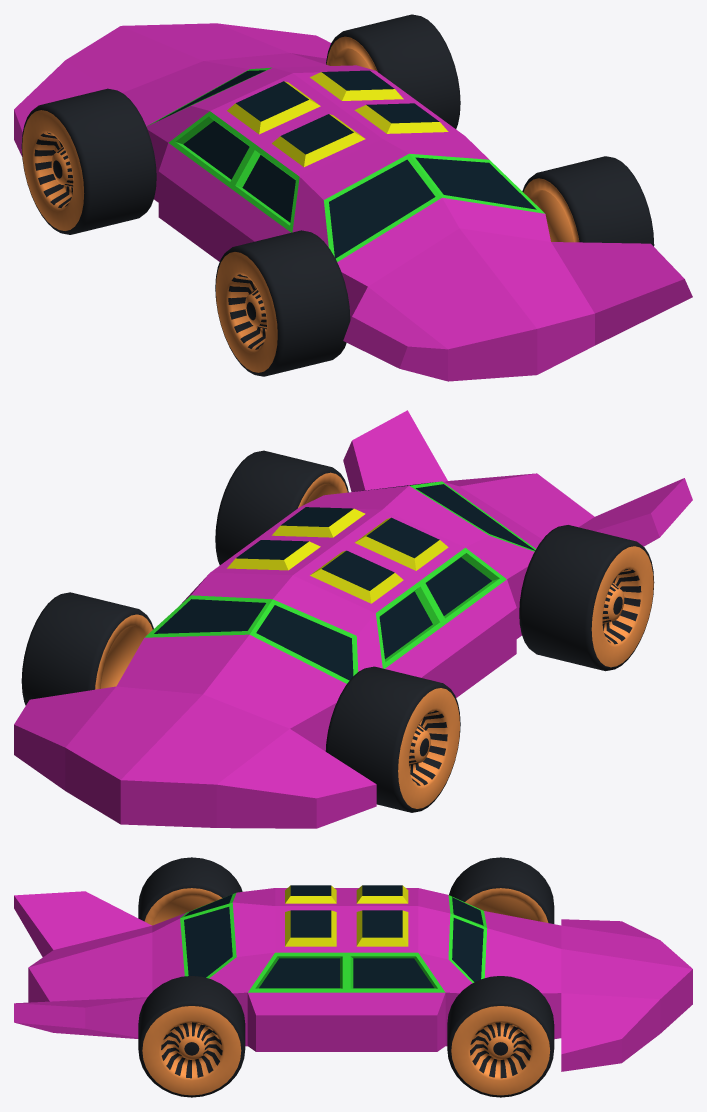
Rendered from car_cylinder.gltf.
The picture shows the model from 3 angles, top to bottom: view 1: azimuth 30°, elevation 25°; view 2: azimuth 150°, elevation 25°; view 3: azimuth 270°, elevation 25°; orthographic projection. The views are drawn at different scales.
Parts seen in each view (by area): view 1: Mesh_CarBody, 0_Mesh_Wheel_FrontLeft, 2_Mesh_Wheel_BackLeft, 3_Mesh_Wheel_BackRight, 1_Mesh_Wheel_FrontRight; view 2: Mesh_CarBody, 2_Mesh_Wheel_BackLeft, 0_Mesh_Wheel_FrontLeft, 1_Mesh_Wheel_FrontRight, 3_Mesh_Wheel_BackRight; view 3: Mesh_CarBody, 1_Mesh_Wheel_FrontRight, 3_Mesh_Wheel_BackRight, 0_Mesh_Wheel_FrontLeft, 2_Mesh_Wheel_BackLeft.
Boxes of the visible parts, <box> form: Mesh_CarBody: <box>14,23,692,381</box>; 0_Mesh_Wheel_FrontLeft: <box>21,88,156,234</box>; 2_Mesh_Wheel_BackLeft: <box>215,230,350,376</box>; 3_Mesh_Wheel_BackRight: <box>522,156,654,246</box>; 1_Mesh_Wheel_FrontRight: <box>326,14,460,128</box>; Mesh_CarBody: <box>14,410,692,828</box>; 2_Mesh_Wheel_BackLeft: <box>519,525,654,671</box>; 0_Mesh_Wheel_FrontLeft: <box>325,666,460,812</box>; 1_Mesh_Wheel_FrontRight: <box>21,592,153,705</box>; 3_Mesh_Wheel_BackRight: <box>215,450,348,565</box>; Mesh_CarBody: <box>14,885,692,1071</box>; 1_Mesh_Wheel_FrontRight: <box>447,976,554,1097</box>; 3_Mesh_Wheel_BackRight: <box>138,976,245,1097</box>; 0_Mesh_Wheel_FrontLeft: <box>449,857,554,923</box>; 2_Mesh_Wheel_BackLeft: <box>138,857,242,925</box>.
Size of what is drawn, in the model's own units: 5.25 by 2.07 by 10.3.
